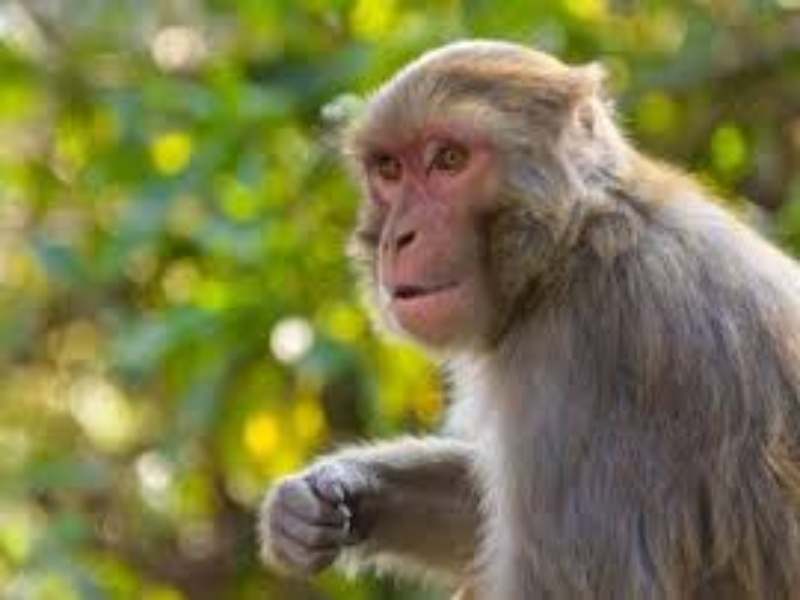monkey: (259, 39, 783, 595)
